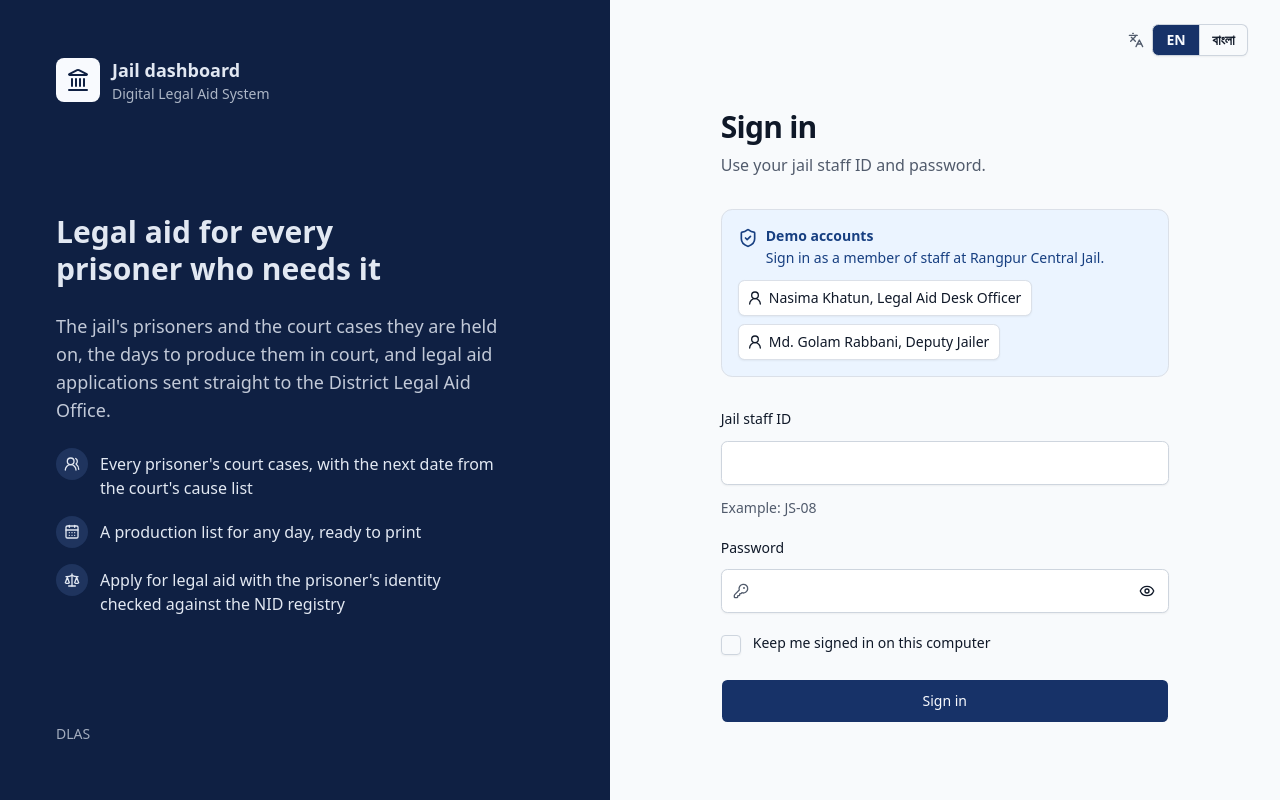
it: signing in › asks for a password of at least 4 characters
In the field labelled "Jail staff ID": [945, 462] box [721,440,1169,484], type "JS-03"
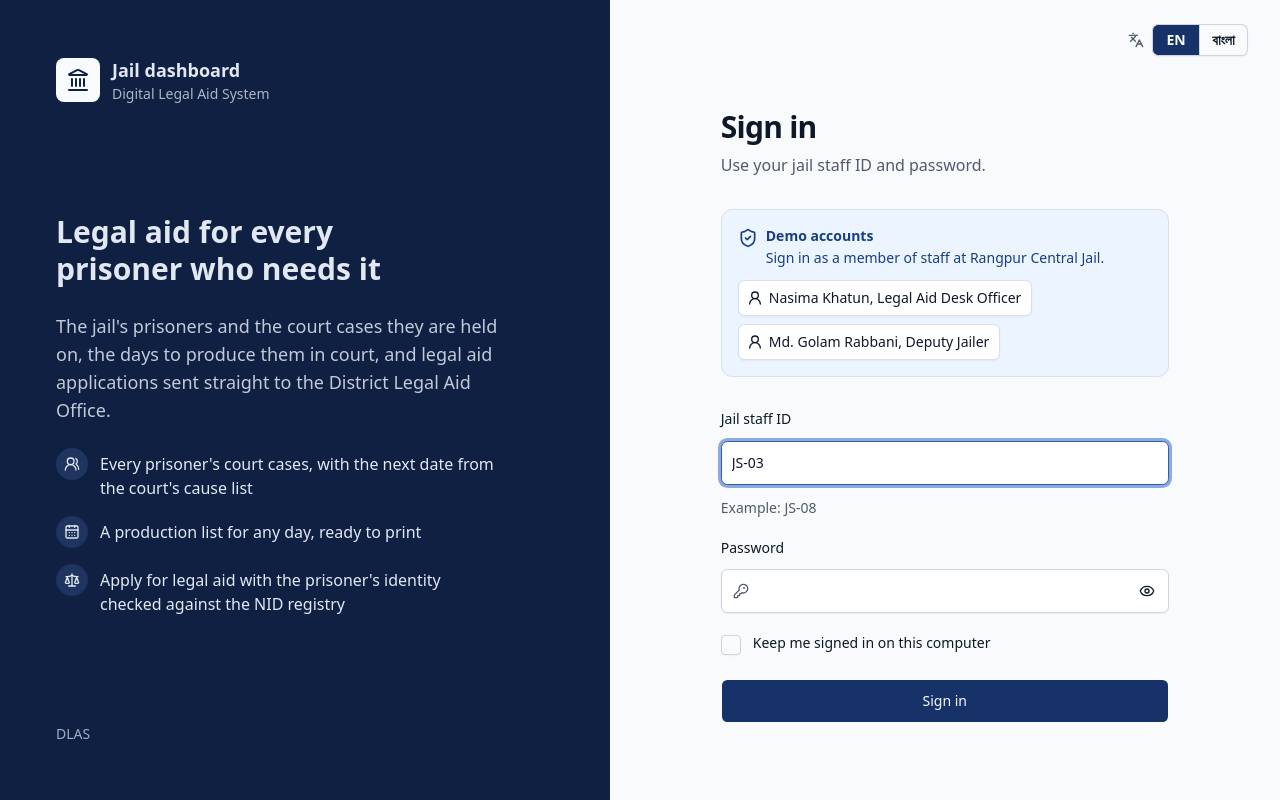
In the password field labelled "Password": [945, 591] box [721,569,1169,613], type "abc"
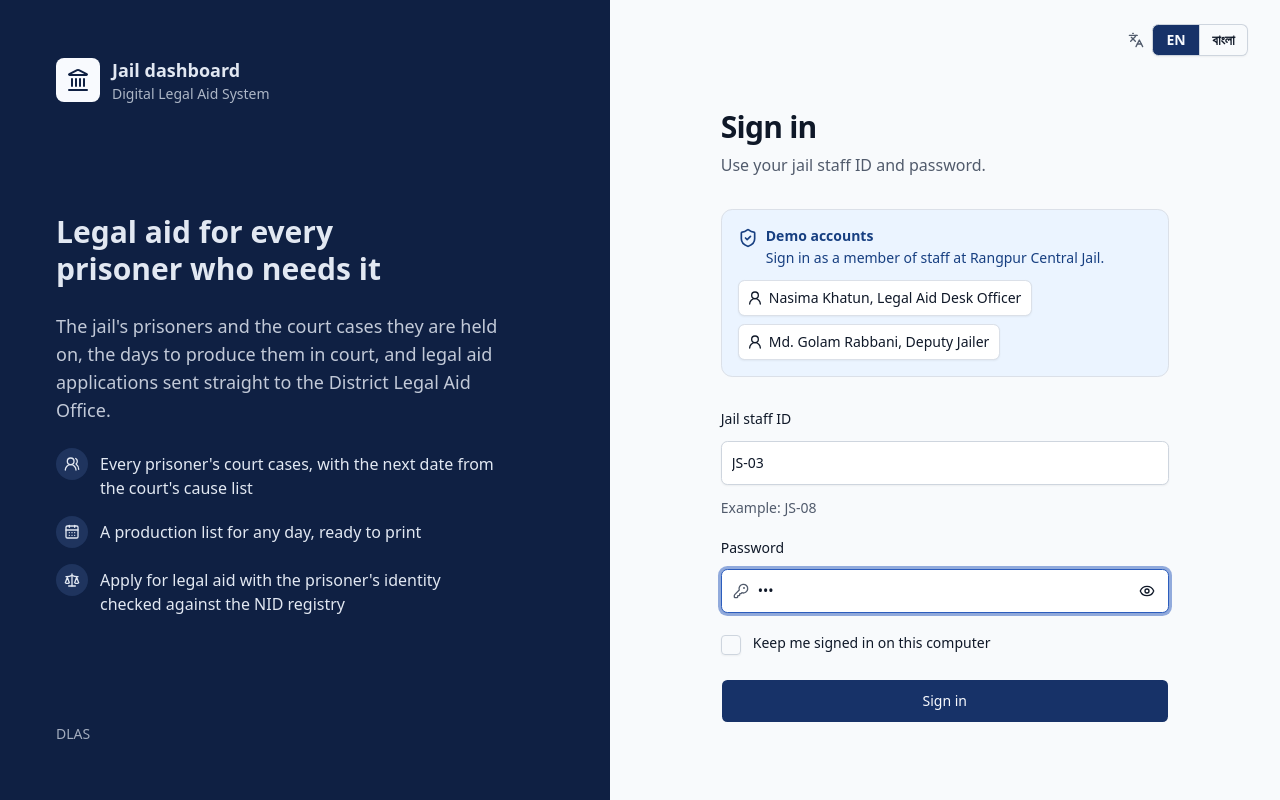
Click the button "Sign in": [945, 701] box [721,679,1169,723]
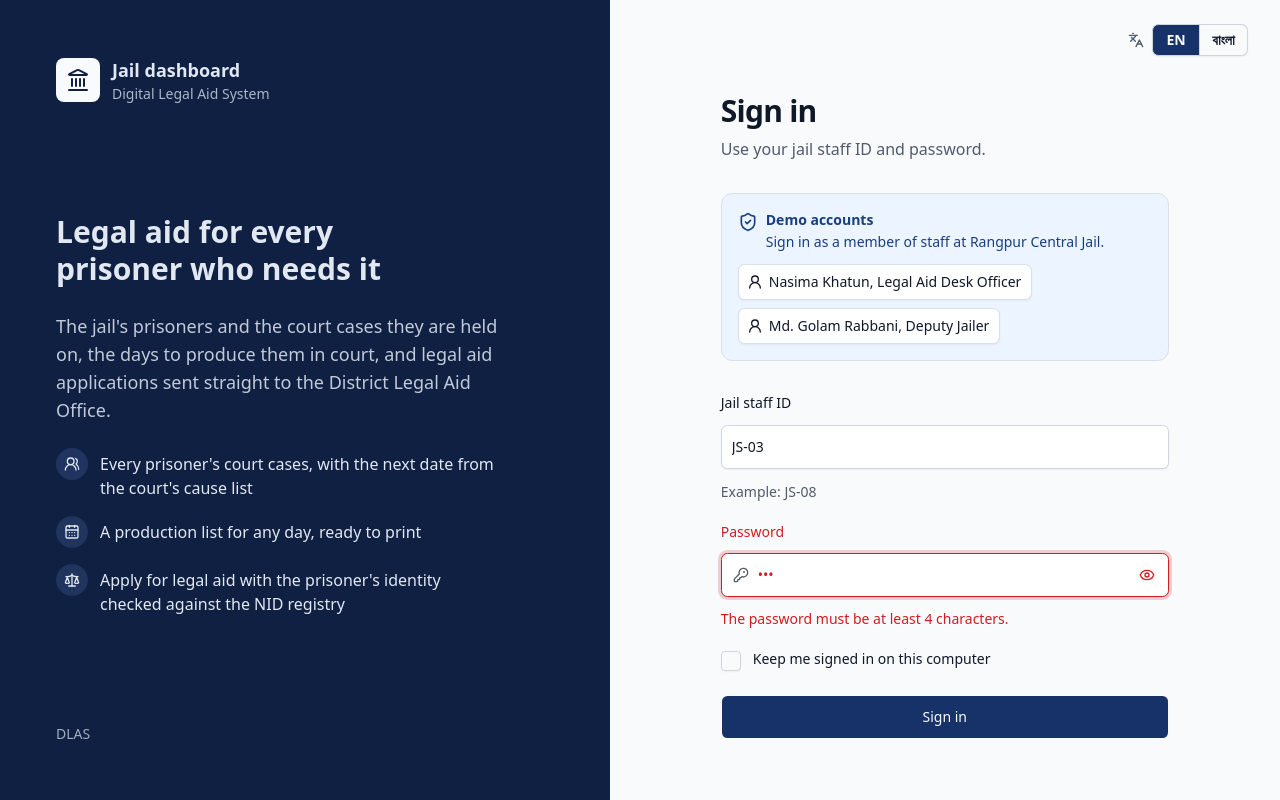
Expected: the text "The password must be at least 4 characters." is shown, [721,609,1009,628]
